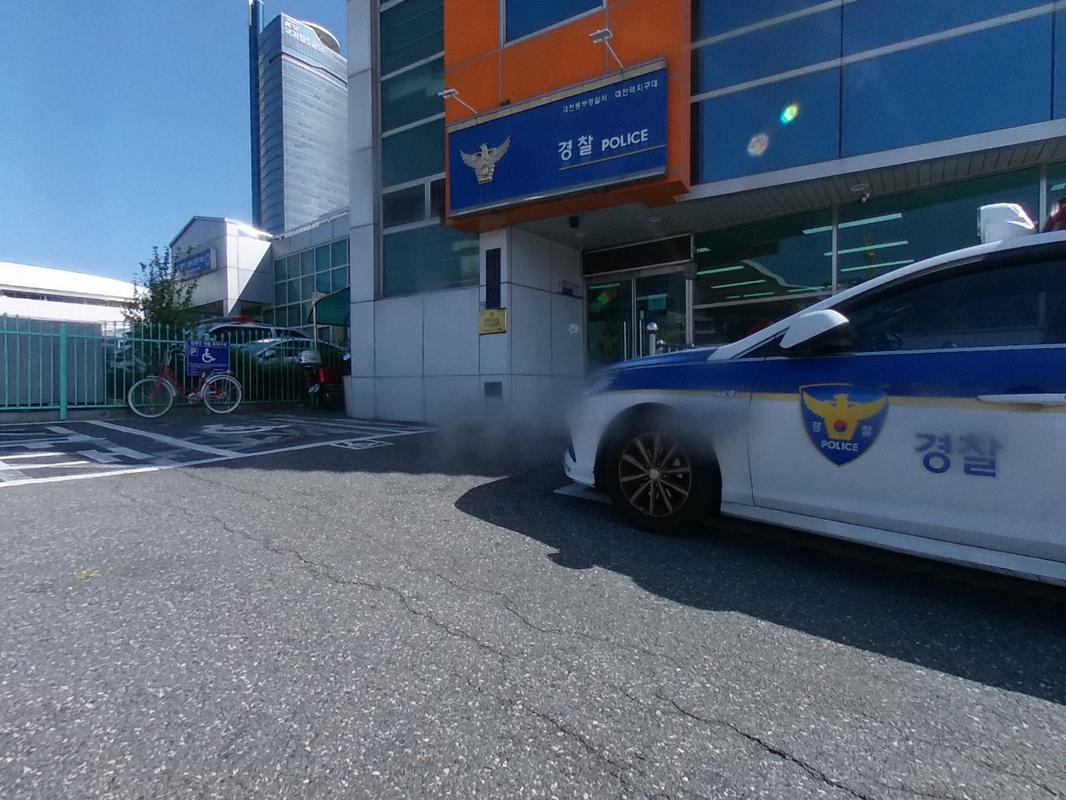bicycle: (126, 341, 244, 418)
bike: (127, 334, 243, 418)
building: (340, 0, 1061, 446), (246, 7, 348, 236)
car: (558, 228, 1065, 596)
crosswalk: (2, 407, 435, 487)
door: (582, 263, 691, 377)
green pedestrian traffic light: (775, 100, 801, 127)
motorcycle: (295, 336, 346, 411)
pedestrian light: (775, 90, 801, 127)
rail: (0, 316, 340, 420)
scooter: (295, 346, 346, 411)
station: (340, 0, 1061, 446)
